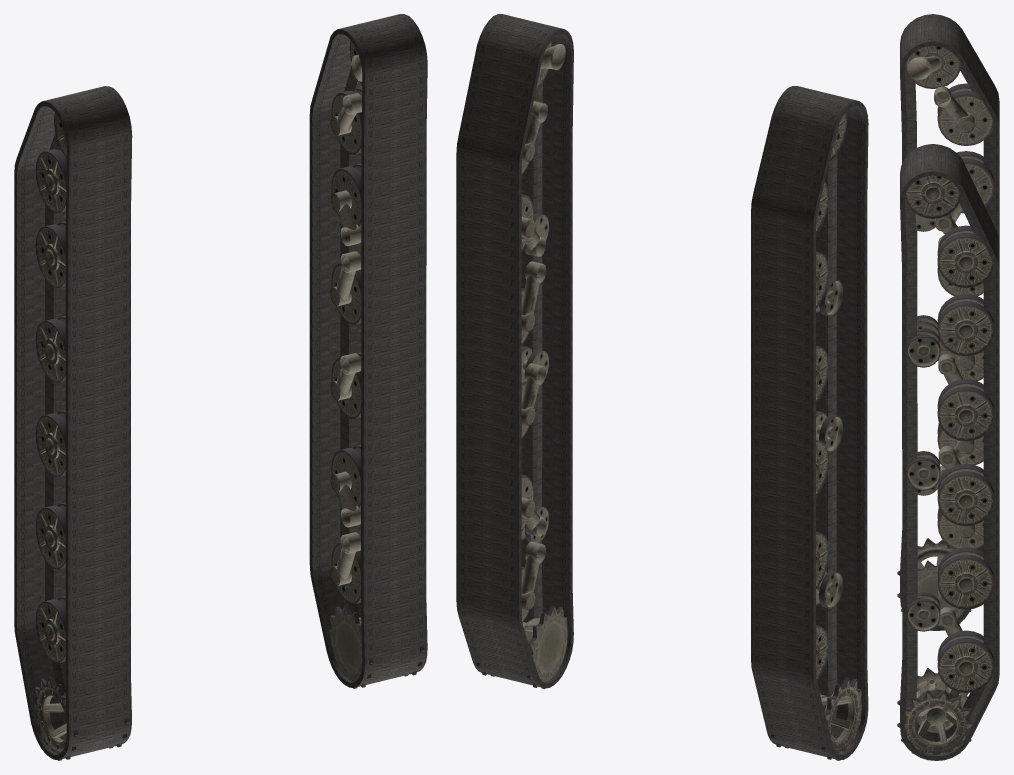
File: Chassis.glb
3 renders of one model, left to right at view 1: azimuth 30°, elevation 25°; view 2: azimuth 150°, elevation 25°; view 3: azimuth 270°, elevation 25°, orthographic. The views are drawn at different scales.
Parts seen in each view (by area): view 1: set_1_group_0, set_0_group_0, set_3_group_0, set_2_group_0; view 2: set_1_group_0, set_0_group_0, set_3_group_0, set_2_group_0; view 3: set_3_group_0, set_0_group_0, set_2_group_0, set_1_group_0.
Boxes of the visible parts, <box> form: set_1_group_0: <box>14,86,132,760</box>; set_0_group_0: <box>309,14,427,687</box>; set_3_group_0: <box>329,40,424,688</box>; set_2_group_0: <box>34,112,129,760</box>; set_1_group_0: <box>751,86,868,760</box>; set_0_group_0: <box>456,14,573,688</box>; set_3_group_0: <box>476,40,567,688</box>; set_2_group_0: <box>770,112,861,760</box>; set_3_group_0: <box>897,175,994,754</box>; set_0_group_0: <box>900,144,999,760</box>; set_2_group_0: <box>897,45,994,624</box>; set_1_group_0: <box>900,14,999,630</box>.
Bounding box in the file's own units: 3.3 × 5.78 × 0.9041.
Materials: 4 (4 with a texture image).
